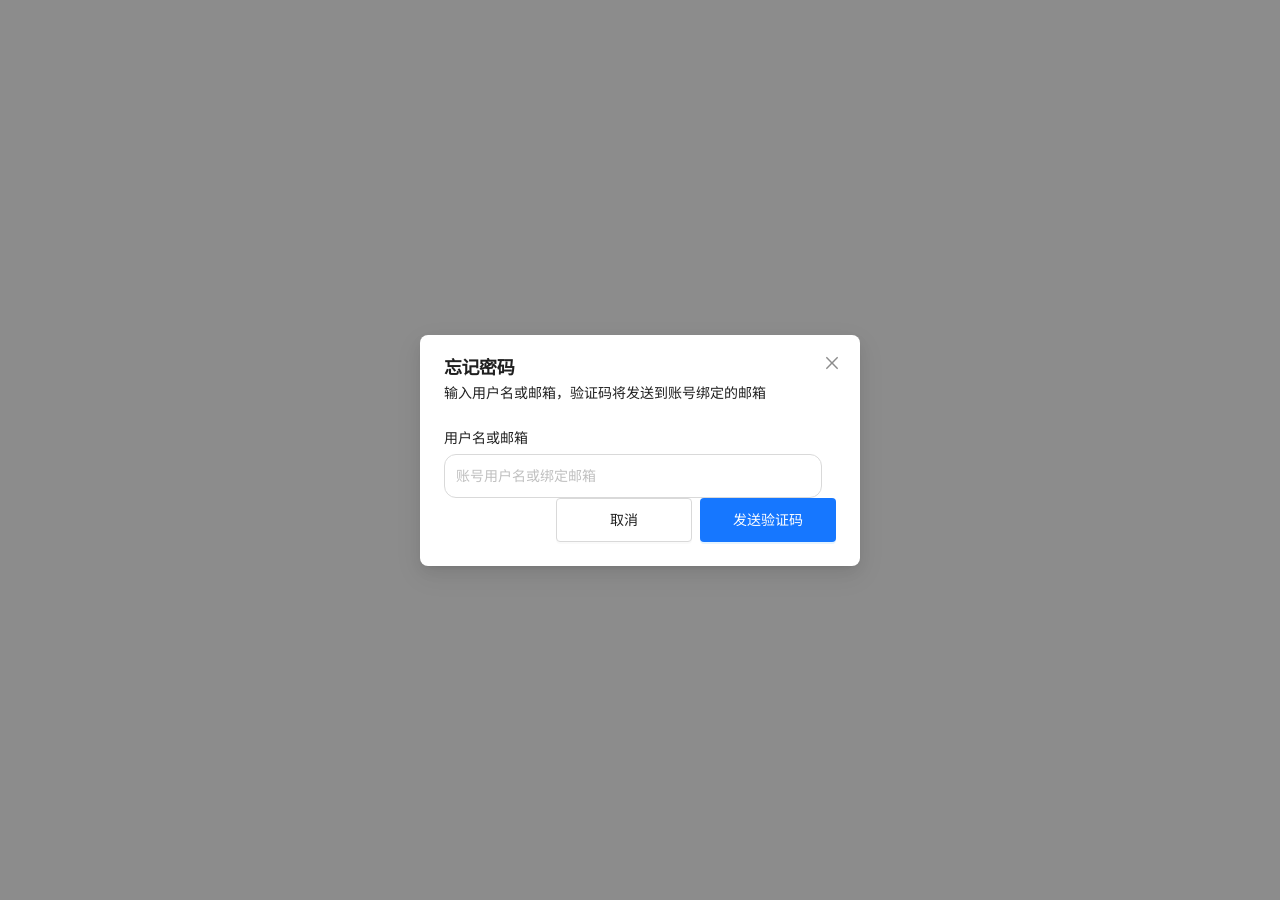
Test: ForgotPasswordDialog › 第一步：空凭据提交展示校验错误，不调接口
The width and height of the screenshot is (1280, 900).
What coordinates should you click on to do the following:
click the button "发送验证码"
I would click on:
 (768, 520)
Its box is [700,498,836,542].
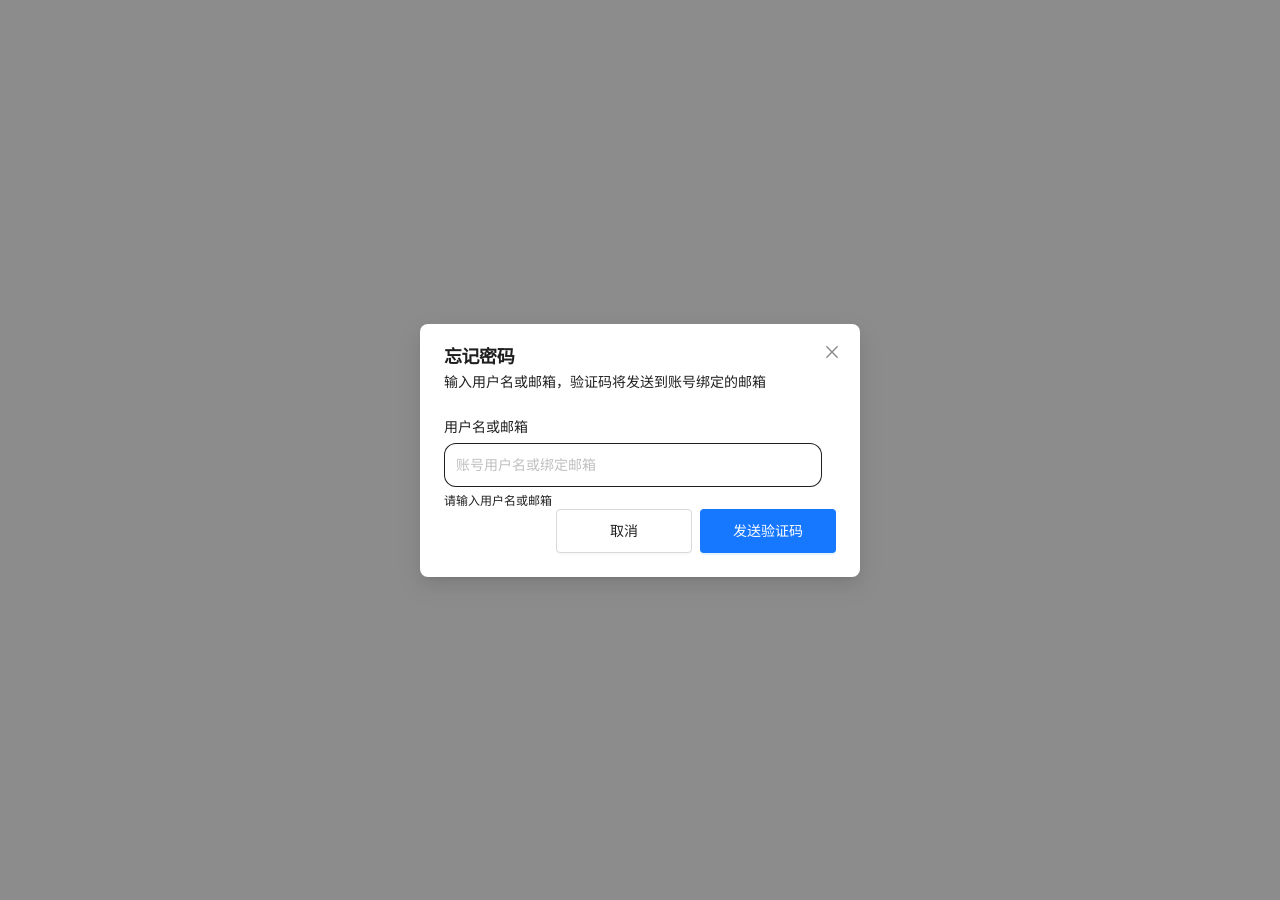
Check: the text "请输入用户名或邮箱" is shown, box [444,492,552,508]
